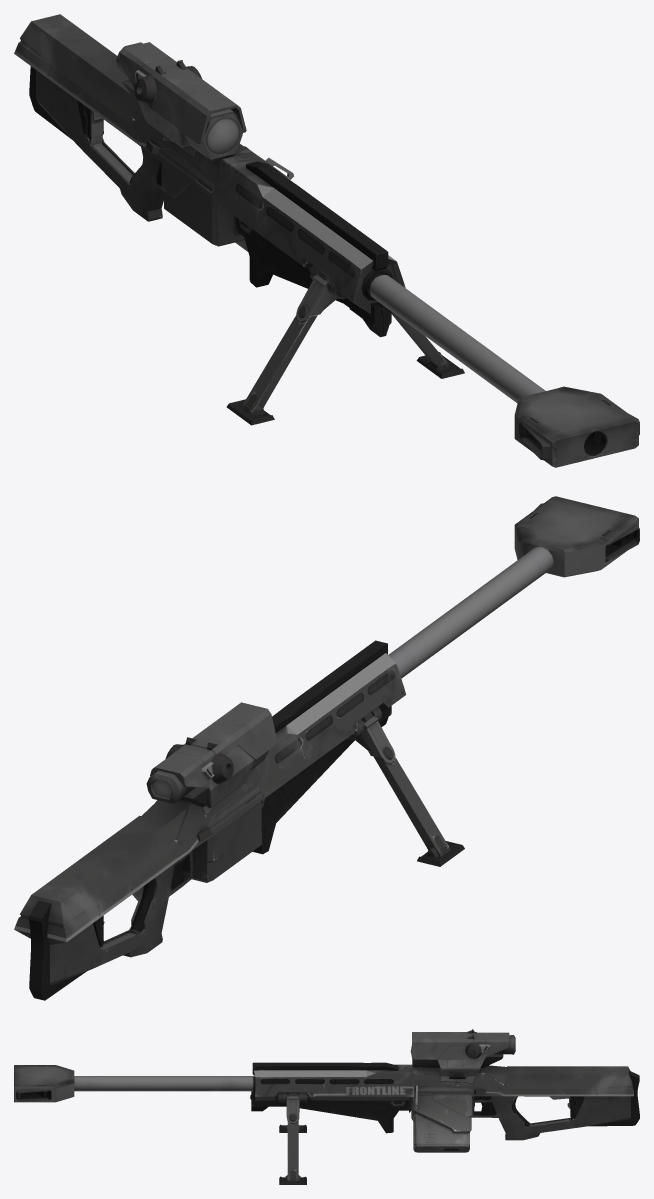
Rendered from frontline_sr-604_sniper_rifle.glb.
3 renders of one model, top to bottom at view 1: azimuth 30°, elevation 25°; view 2: azimuth 150°, elevation 25°; view 3: azimuth 270°, elevation 25°, orthographic. The views are drawn at different scales.
Visible parts, largest first — view 1: M_LOD0; view 2: M_LOD0; view 3: M_LOD0.
Part boxes in pixels (x1,y1,x2,y2): M_LOD0: (14, 14, 639, 467); M_LOD0: (14, 496, 639, 1000); M_LOD0: (14, 1029, 639, 1184).
Bounding box in the file's own units: 0.0329 × 0.0314 × 0.1496.
1 material, 1 textured.
